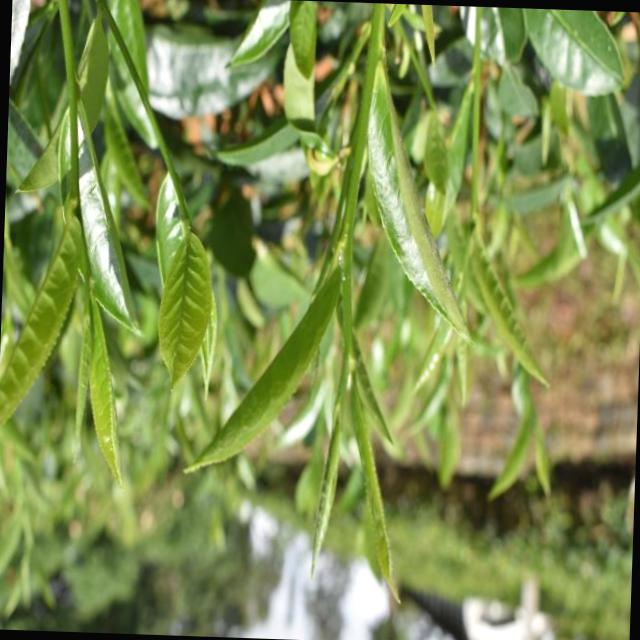Stem: (67, 179, 77, 198), (176, 206, 188, 219)
